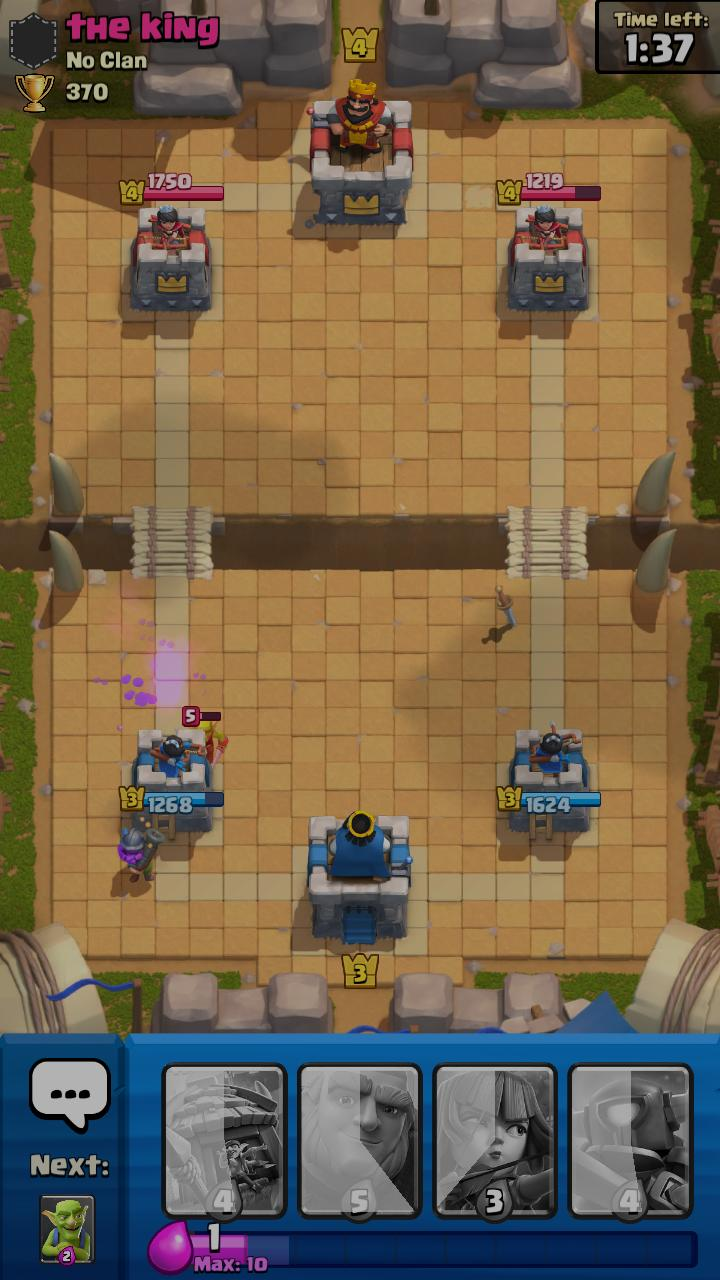ally: (117, 827, 165, 884)
enemy: (182, 706, 229, 768)
